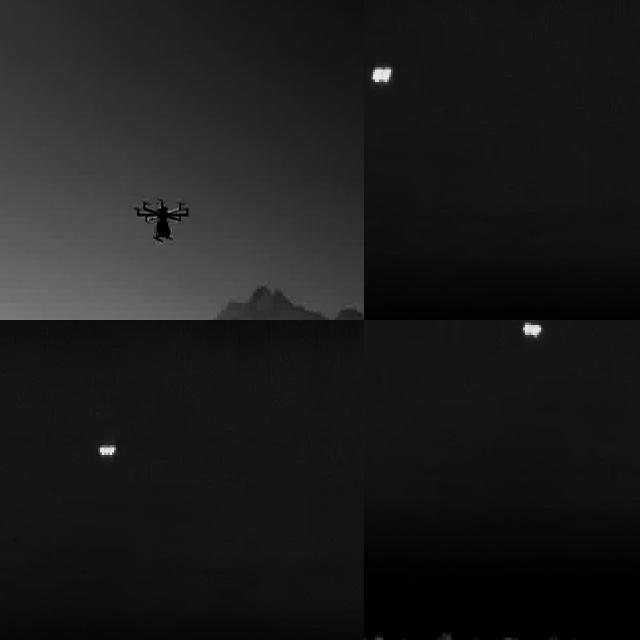1: (364, 63, 398, 95), (88, 440, 124, 470), (513, 320, 549, 349)
drone: (136, 195, 192, 244)
